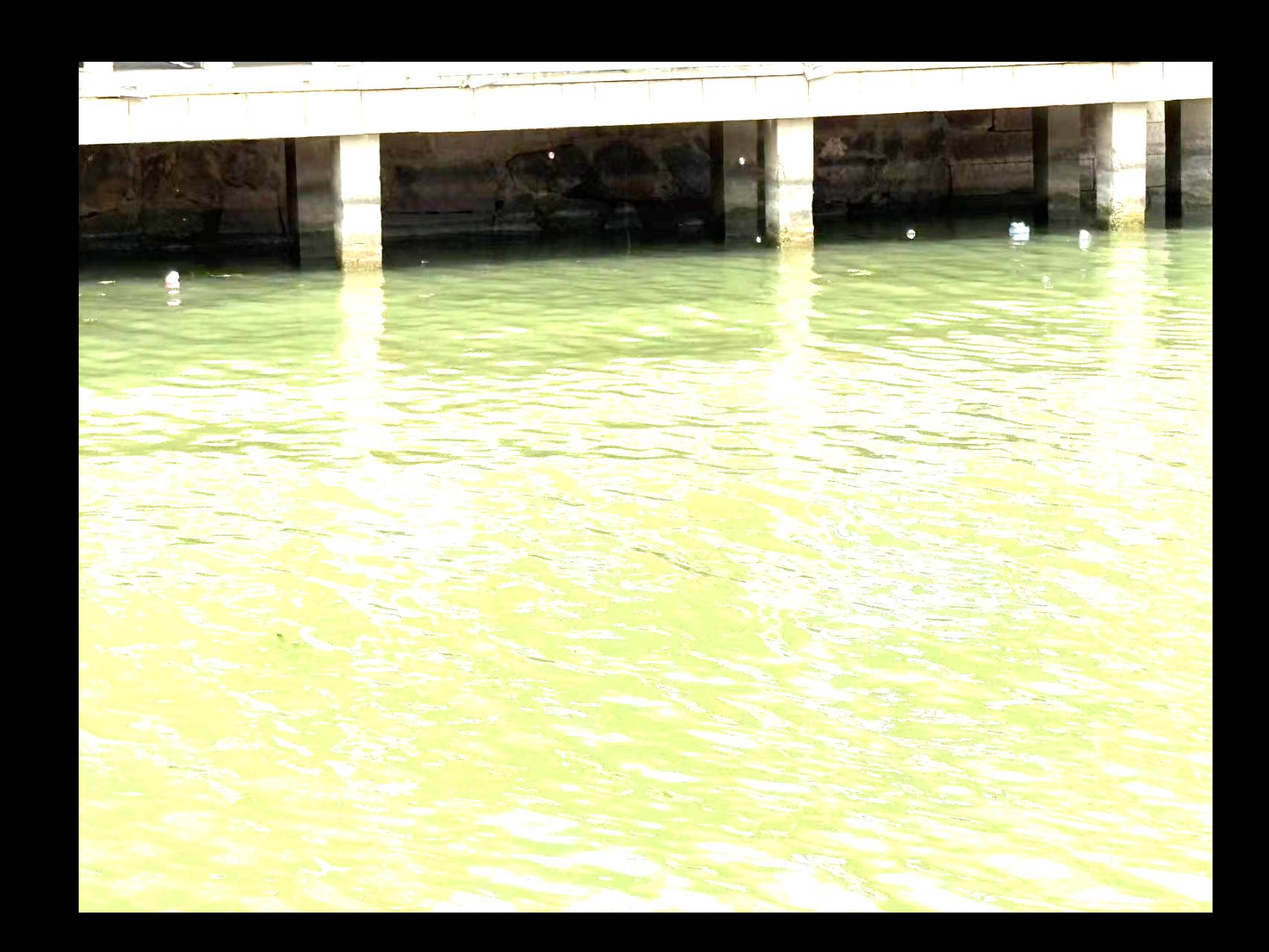Plastic wastes: (1007, 218, 1030, 237), (164, 268, 183, 289), (1076, 228, 1091, 241)
